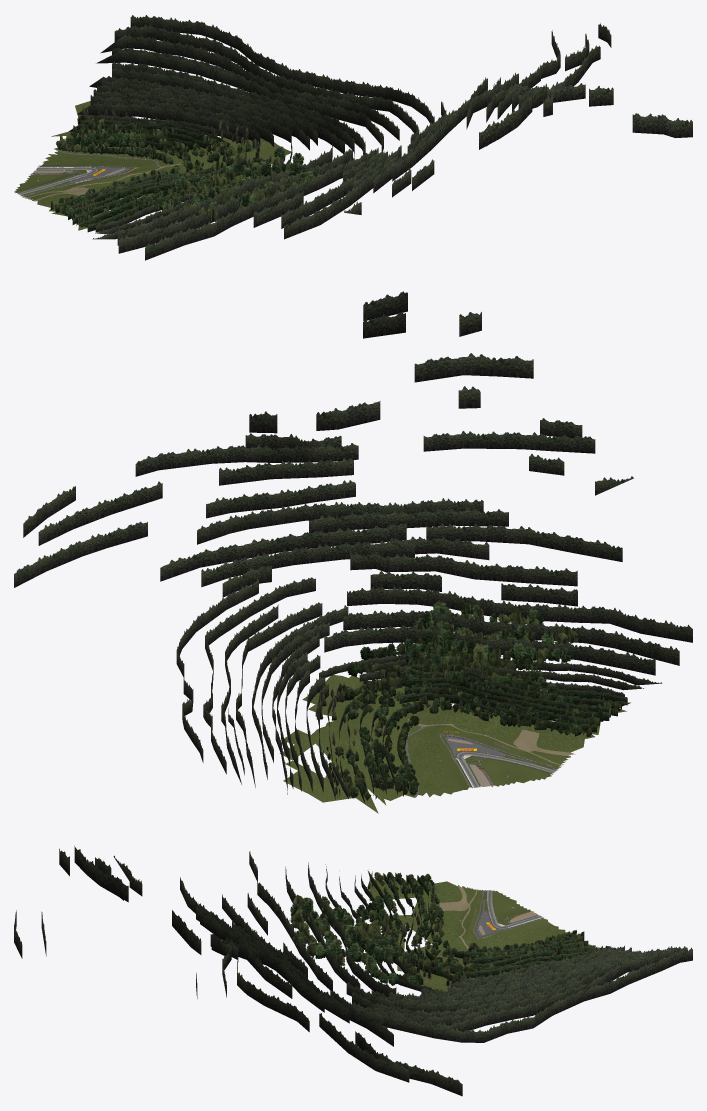
The picture shows the model from 3 angles, top to bottom: view 1: azimuth 30°, elevation 25°; view 2: azimuth 150°, elevation 25°; view 3: azimuth 270°, elevation 25°; orthographic projection. The views are drawn at different scales.
Visible parts, largest first — view 1: tile_t13; view 2: tile_t13; view 3: tile_t13.
Part boxes in pixels (x1,y1,x2,y2): tile_t13: (14, 15, 692, 260); tile_t13: (14, 291, 692, 813); tile_t13: (14, 846, 692, 1096).
Bounding box in the file's own units: 1304 × 466 × 1466.
37 materials, 37 textured.
